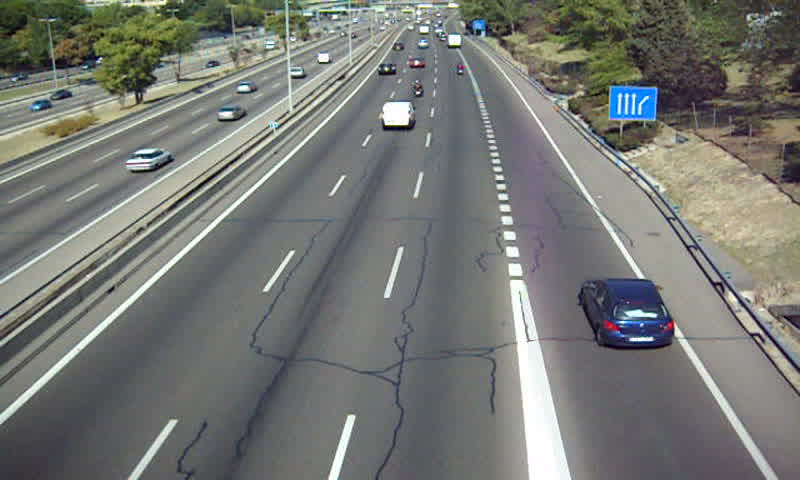car: (580, 277, 675, 349), (376, 62, 395, 76), (408, 58, 424, 70)
motorcycle: (411, 79, 424, 101), (456, 62, 466, 79)
van: (381, 102, 413, 130)
